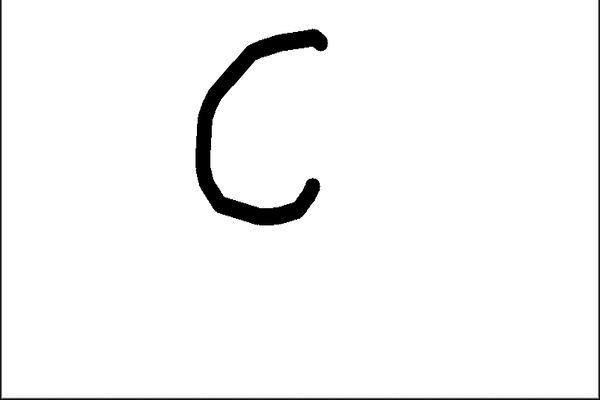C: (190, 23, 331, 231)
